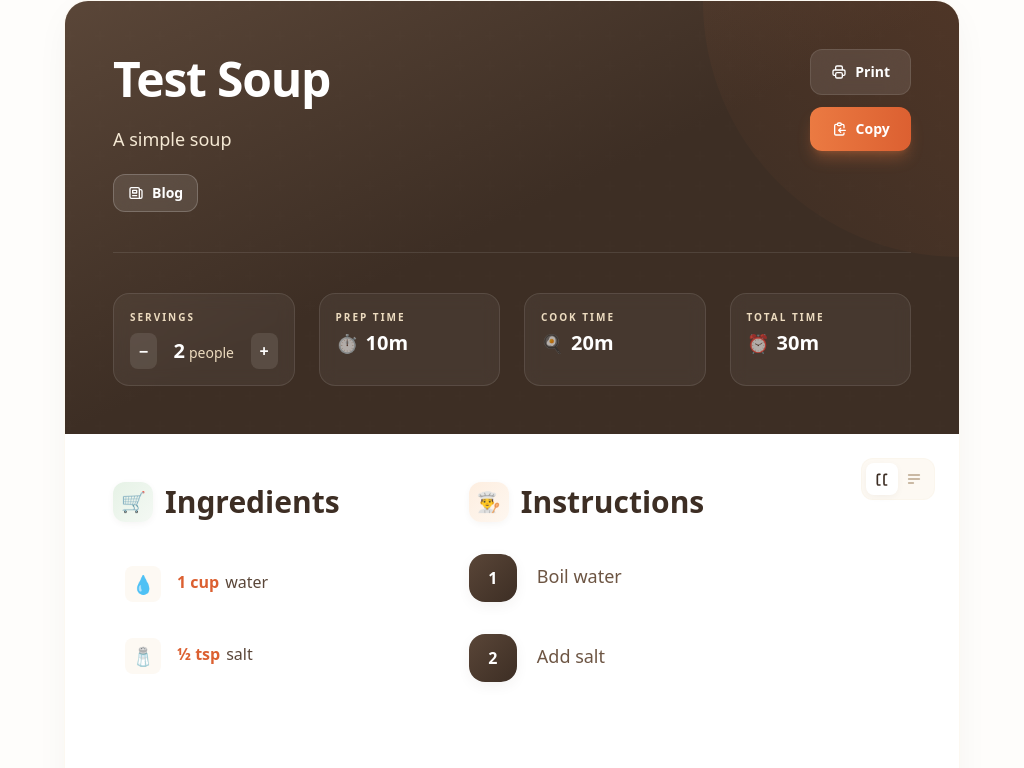
Test: RecipeCard › supports print and copy actions
Click the button "Print": (861, 72) [810,49,911,95]
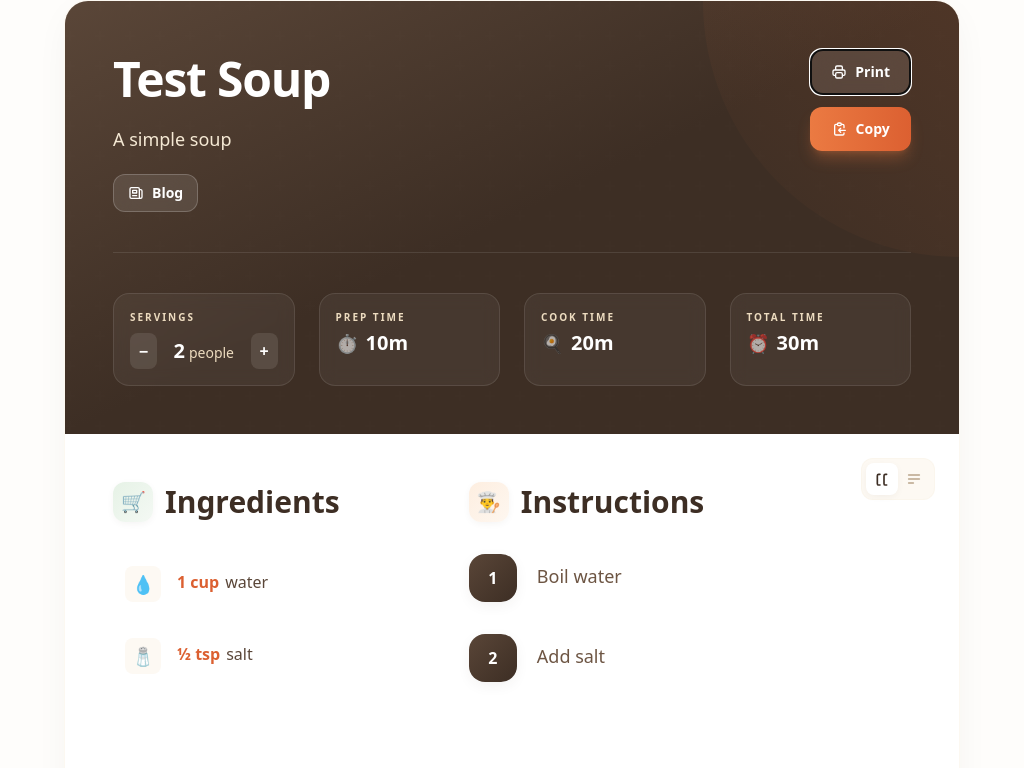
Click the button "Copy": (861, 129) [810,107,911,151]
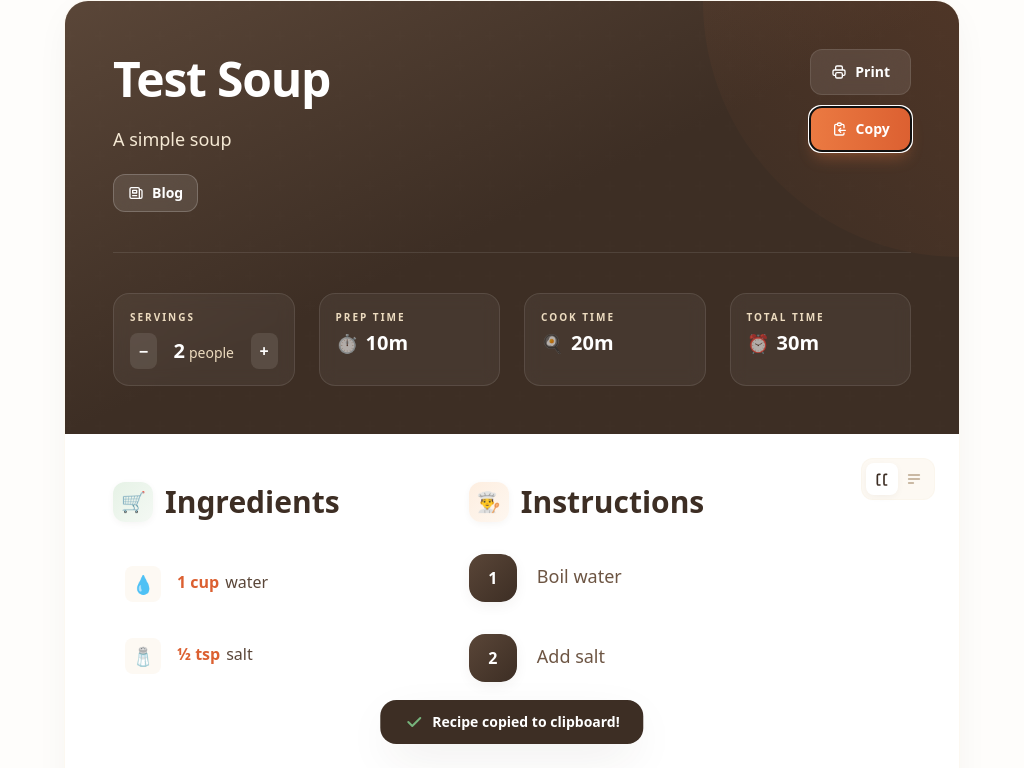
Check: the text "Recipe copied to clipboard!" is shown, box [380,700,644,744]
